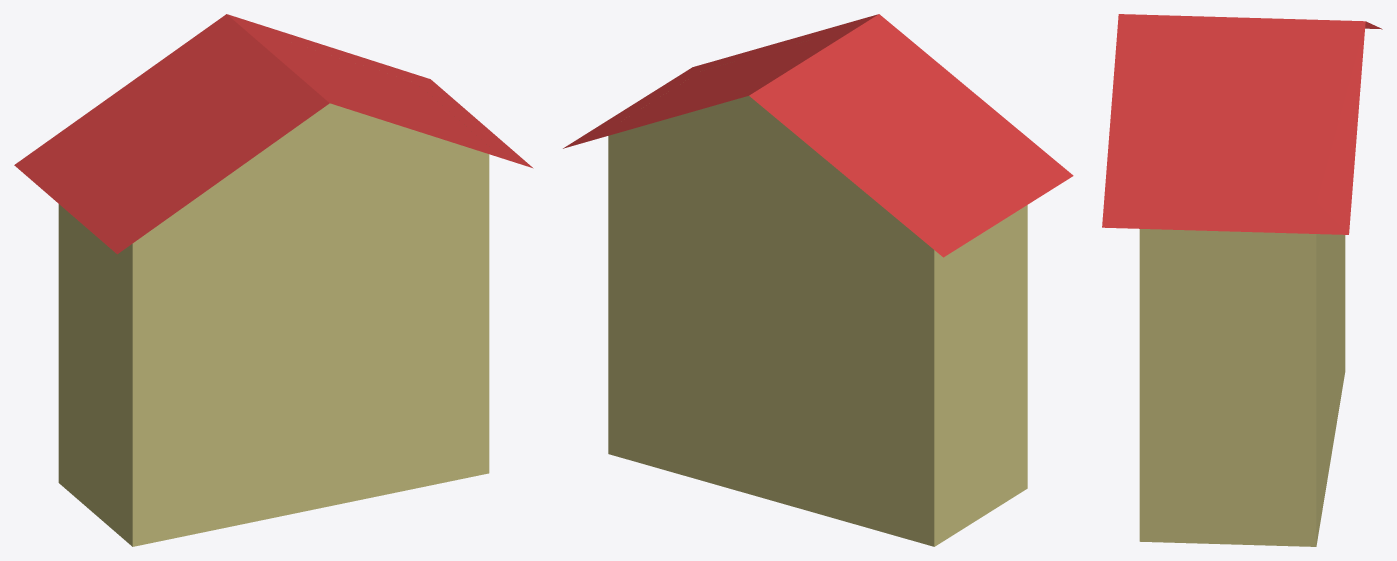
3 views of the same model, side by side, from view 1: azimuth 30°, elevation 25°; view 2: azimuth 150°, elevation 25°; view 3: azimuth 270°, elevation 25° (orthographic). The views are drawn at different scales.
Size of the model in its own units: 7.17 by 3.99 by 6.91.
